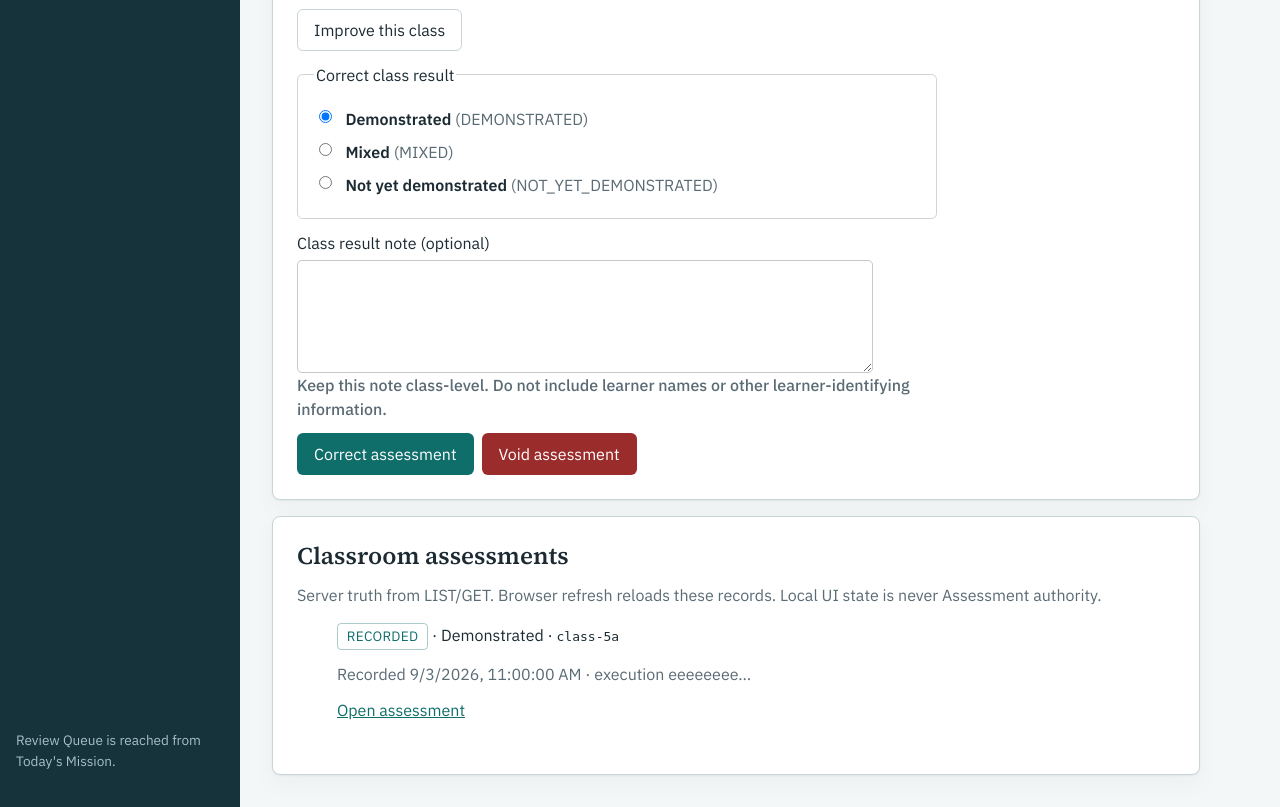
Scenario: TOS-DEV08-I03 Assess page › stale CORRECT reloads and does not auto-submit
(page scrolled)
Click the button "Correct assessment".
click(385, 454)  # box [297, 433, 474, 475]
(page scrolled)
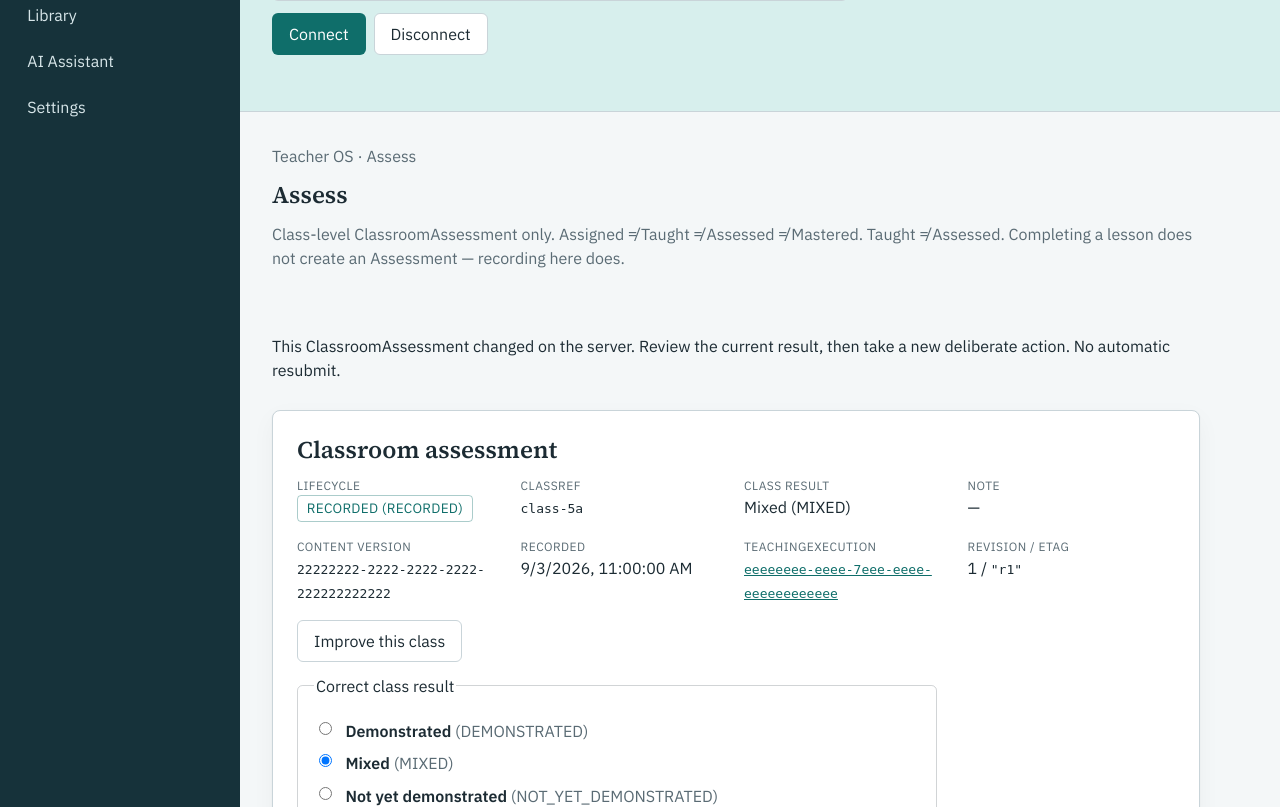
Result: the text "changed on the server" is shown at [272, 336, 1170, 380]
